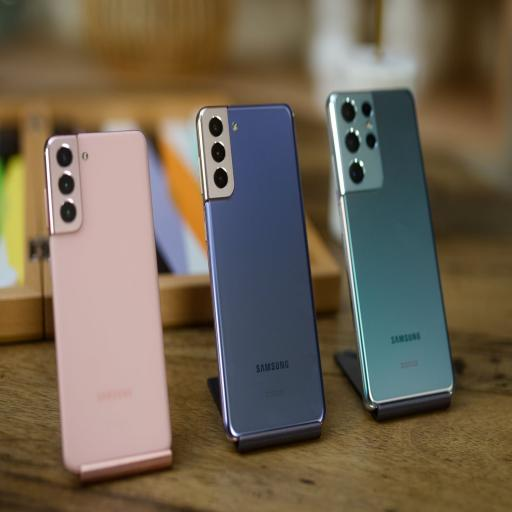phone: (194, 101, 326, 438)
